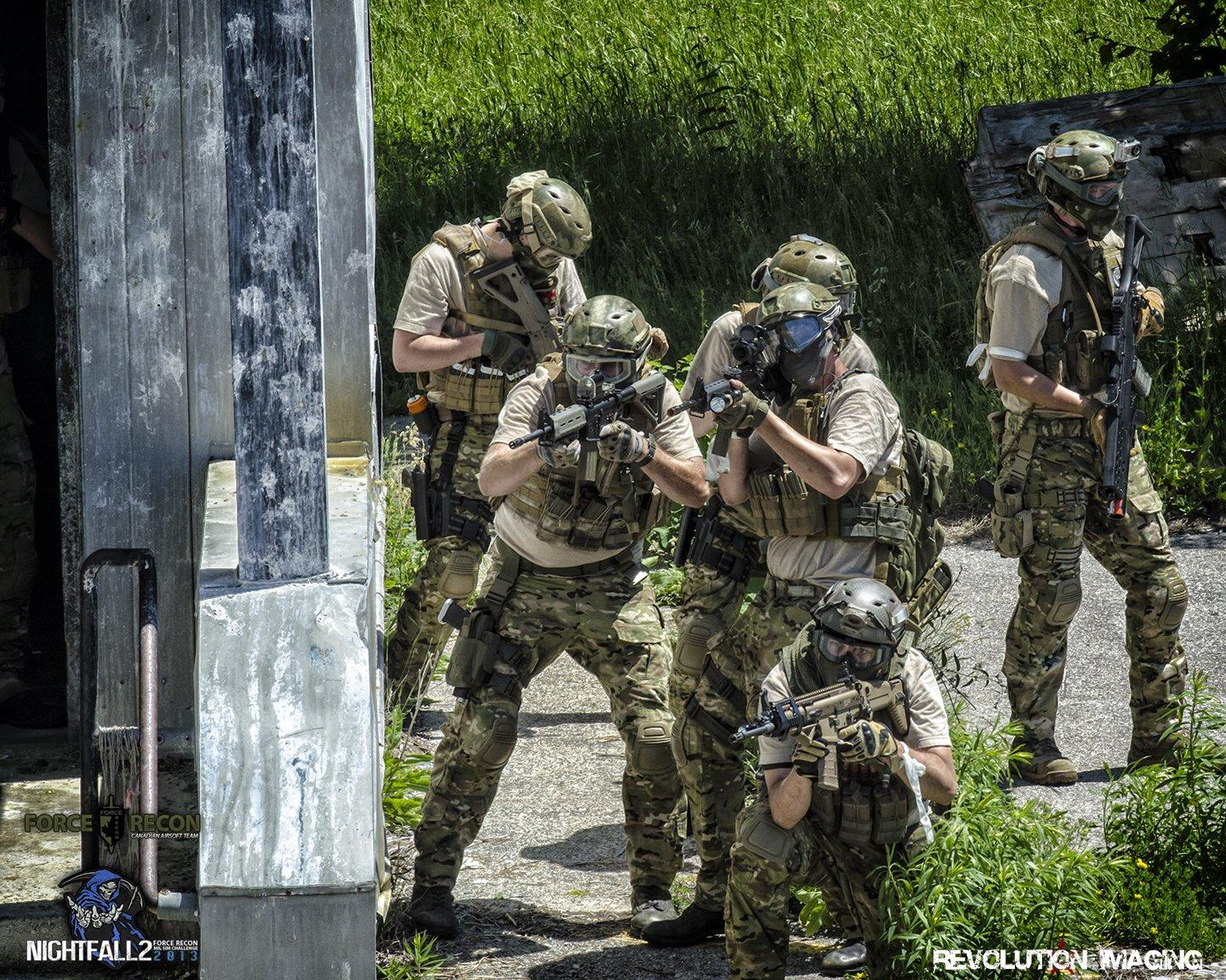rifle: (729, 669, 910, 786), (1093, 214, 1154, 524), (509, 373, 667, 480), (671, 343, 786, 428)
